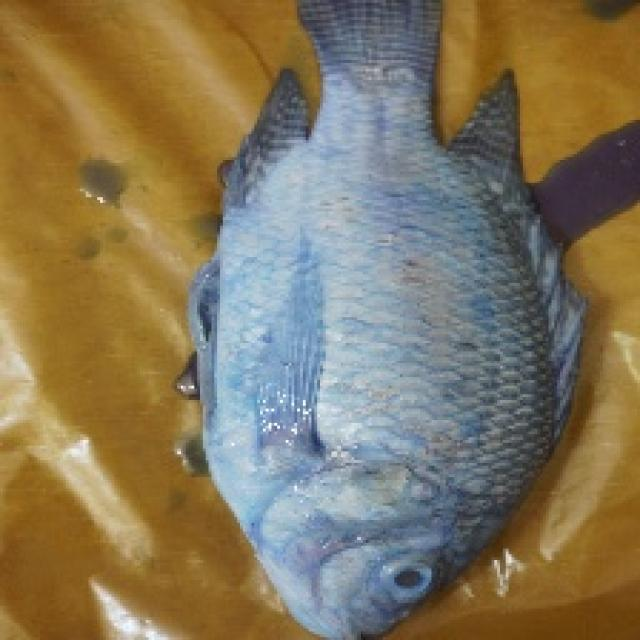Non-Fresh: (210, 180, 566, 640), (372, 544, 442, 605)
